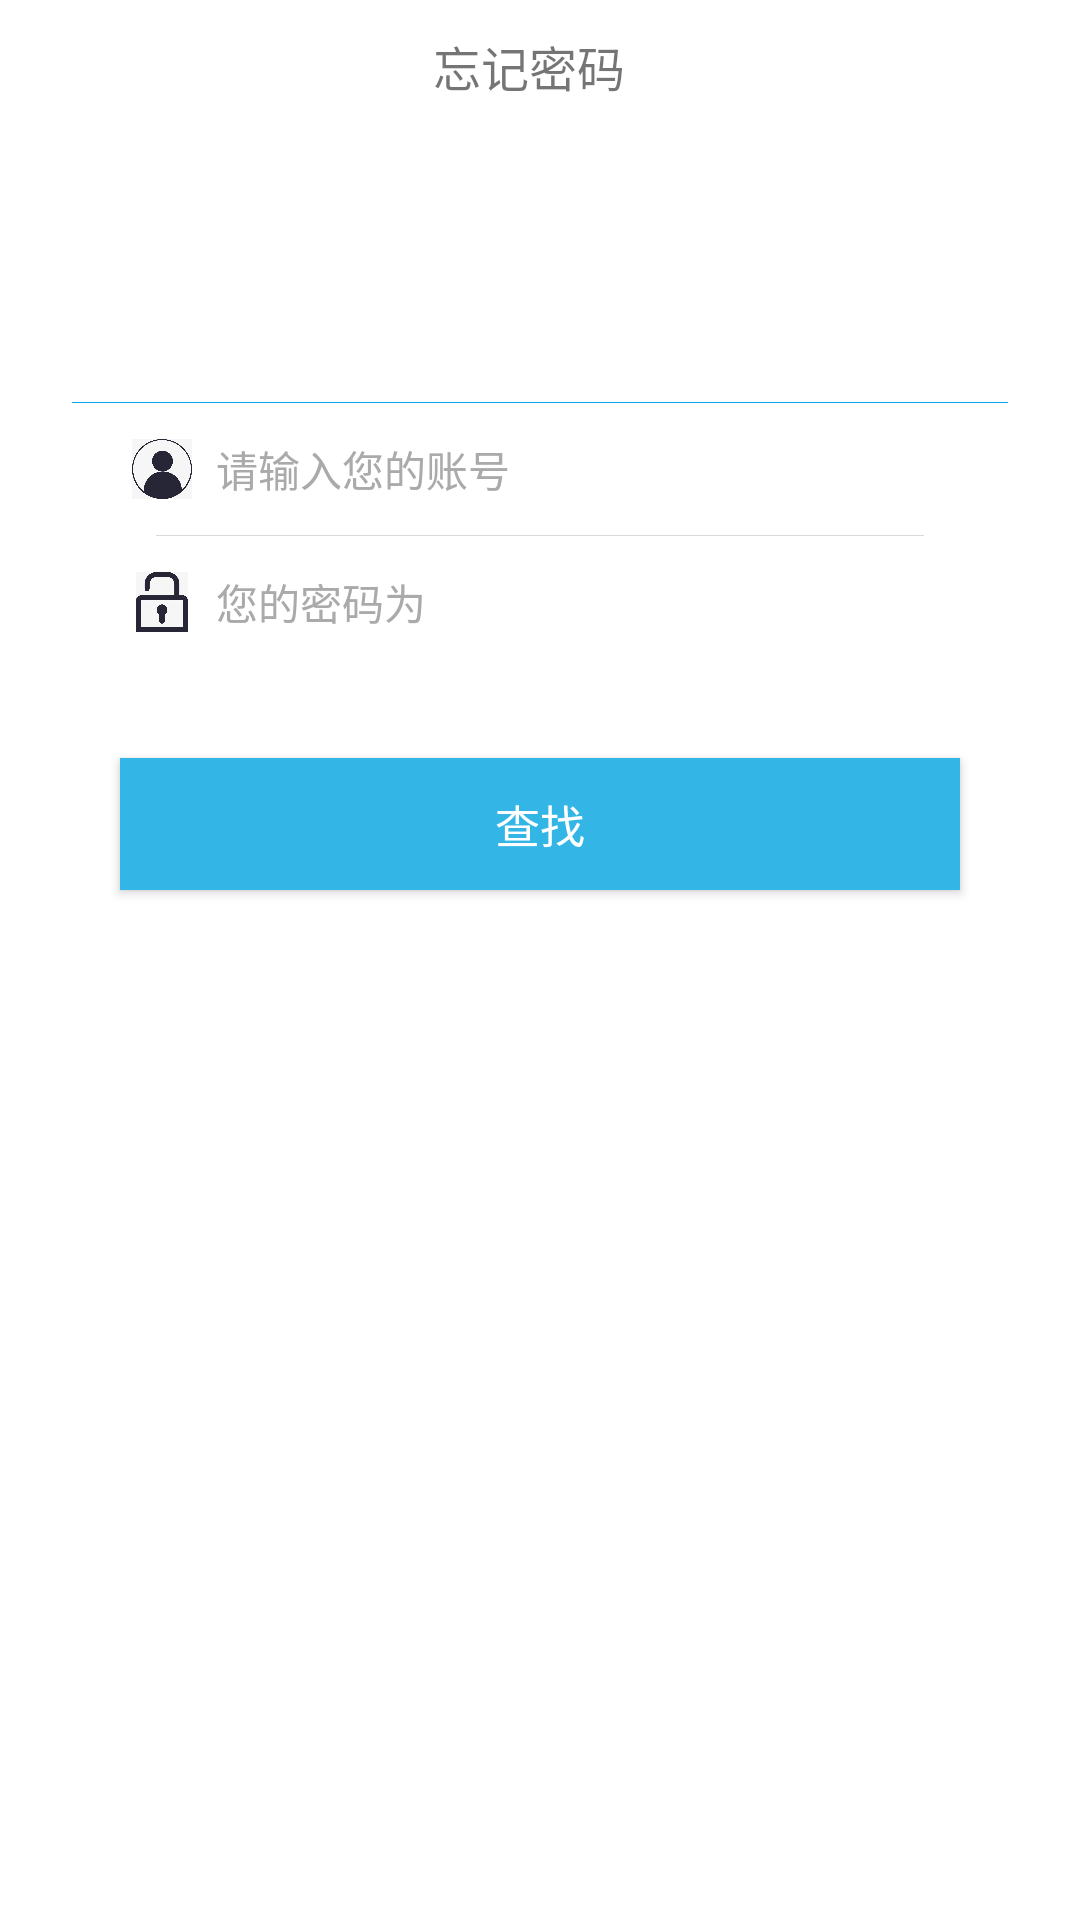

Locate icon controls on the screen. Image size 1080px x 1920px, boxes as [x1, y1, x2, y2].
passwordfig: [136, 572, 188, 632]
personimage: [132, 439, 192, 499]
